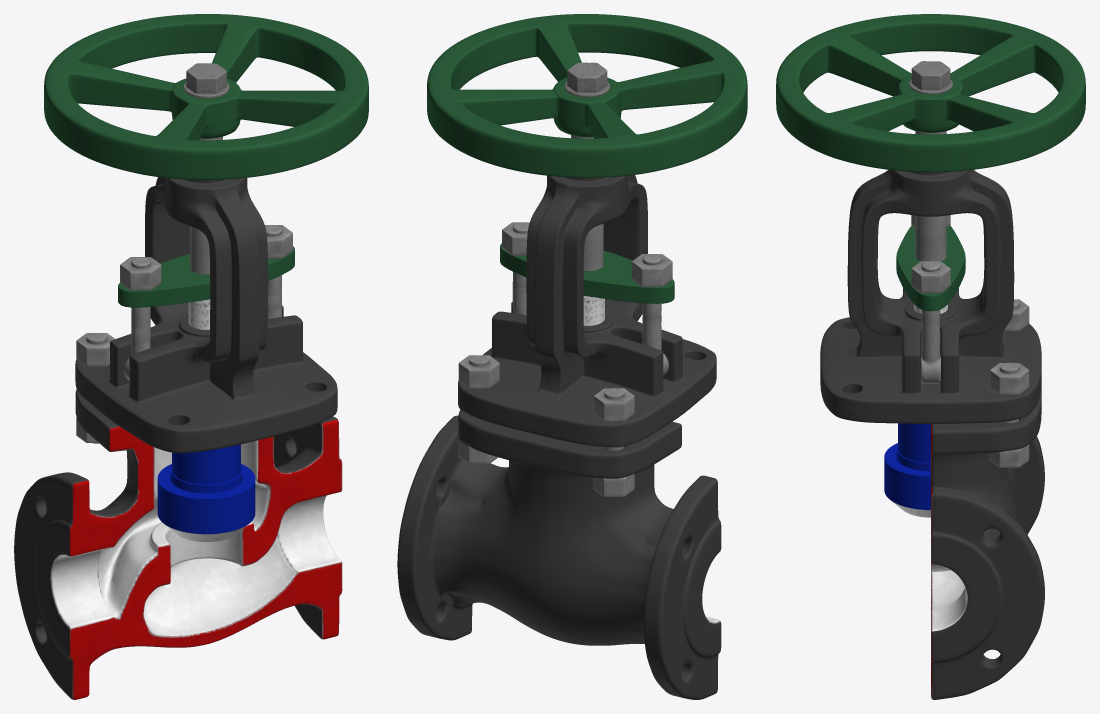
Rendered from globe.glb.
The picture shows the model from 3 angles, left to right: view 1: azimuth 30°, elevation 25°; view 2: azimuth 150°, elevation 25°; view 3: azimuth 270°, elevation 25°; orthographic projection. The views are drawn at different scales.
Parts seen in each view (by area): view 1: Globe_Valve_Body_Cutaway_Test, Bonnet, Wheel, Disc, Bonnet_thing, Nut_bonnet_thing001, Nut_bonnet_thing, Wheel_Nut, Nuts_Back, Stem, Bonnet_washer_top; view 2: Globe_Valve_Body_Cutaway_Test, Wheel, Bonnet, Bonnet_thing, Nut_bonnet_thing001, Nuts_Back, Nuts_Back001, Nut_bonnet_thing, Wheel_Nut, Stem, Bonnet_washer_top; view 3: Wheel, Bonnet, Globe_Valve_Body_Cutaway_Test, Disc, Bonnet_thing, Nut_bonnet_thing, Nuts_Back001, Stem, Wheel_Nut, Nuts_Back.
Boxes of the visible parts, x1=… form: Globe_Valve_Body_Cutaway_Test: x1=14, y1=389, x2=342, y2=699; Bonnet: x1=75, y1=177, x2=337, y2=452; Wheel: x1=44, y1=14, x2=368, y2=179; Disc: x1=157, y1=444, x2=255, y2=542; Bonnet_thing: x1=118, y1=246, x2=294, y2=307; Nut_bonnet_thing001: x1=120, y1=257, x2=161, y2=380; Nut_bonnet_thing: x1=265, y1=225, x2=292, y2=319; Wheel_Nut: x1=183, y1=63, x2=229, y2=98; Nuts_Back: x1=76, y1=333, x2=115, y2=443; Stem: x1=190, y1=136, x2=222, y2=337; Bonnet_washer_top: x1=188, y1=299, x2=210, y2=330; Globe_Valve_Body_Cutaway_Test: x1=397, y1=409, x2=721, y2=699; Wheel: x1=427, y1=14, x2=747, y2=177; Bonnet: x1=458, y1=175, x2=716, y2=447; Bonnet_thing: x1=500, y1=243, x2=674, y2=303; Nut_bonnet_thing001: x1=631, y1=254, x2=672, y2=375; Nuts_Back: x1=593, y1=388, x2=634, y2=497; Nuts_Back001: x1=458, y1=355, x2=499, y2=464; Nut_bonnet_thing: x1=502, y1=222, x2=529, y2=315; Wheel_Nut: x1=564, y1=62, x2=609, y2=97; Stem: x1=571, y1=135, x2=603, y2=326; Bonnet_washer_top: x1=583, y1=296, x2=604, y2=325; Wheel: x1=776, y1=14, x2=1085, y2=172; Bonnet: x1=820, y1=169, x2=1041, y2=423; Globe_Valve_Body_Cutaway_Test: x1=931, y1=385, x2=1044, y2=699; Disc: x1=884, y1=423, x2=930, y2=517; Bonnet_thing: x1=896, y1=225, x2=965, y2=311; Nut_bonnet_thing: x1=911, y1=261, x2=950, y2=383; Nuts_Back001: x1=989, y1=362, x2=1029, y2=468; Stem: x1=915, y1=131, x2=946, y2=382; Wheel_Nut: x1=909, y1=61, x2=952, y2=94; Nuts_Back: x1=1004, y1=299, x2=1029, y2=331.
Bounding box in the file's own units: 0.3793 × 0.7713 × 0.3793.
Materials: 14 (9 with a texture image).
